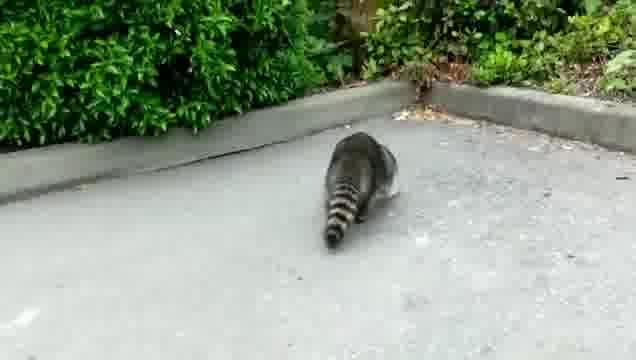raccoon: (325, 130, 402, 247)
